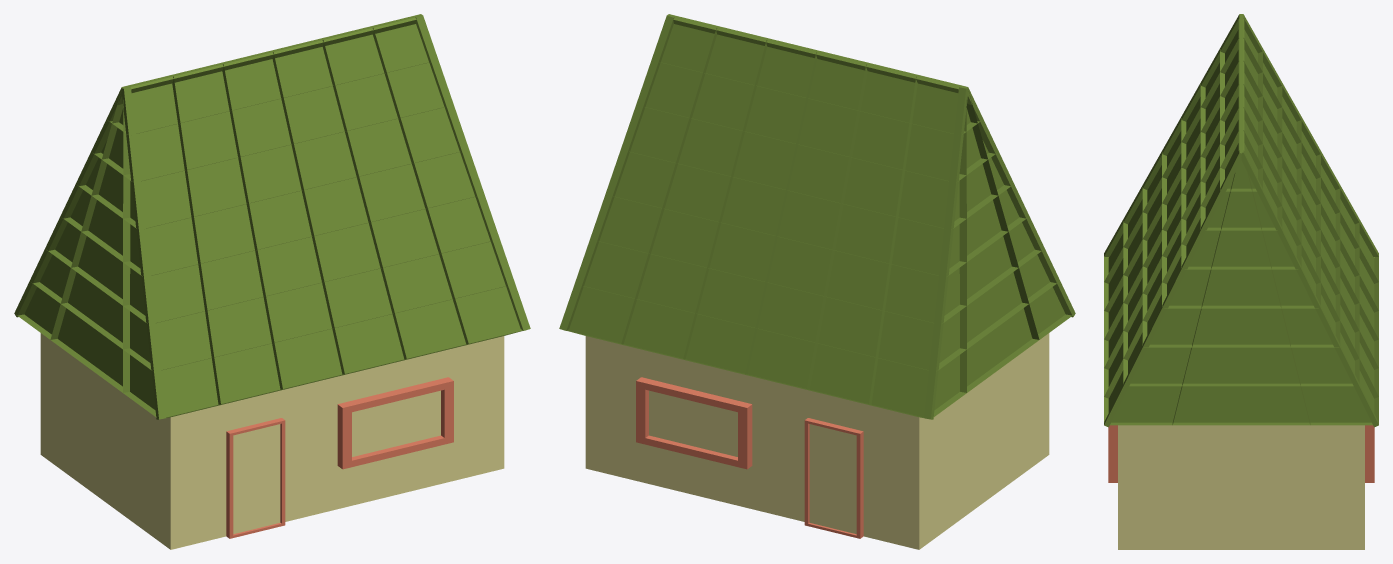
The model's file is fondos casa.fbx.
3 views of the same model, side by side, from view 1: azimuth 30°, elevation 25°; view 2: azimuth 150°, elevation 25°; view 3: azimuth 270°, elevation 25° (orthographic). The views are drawn at different scales.
Parts seen in each view (by area): view 1: Cube.008; view 2: Cube.008; view 3: Cube.008.
Boxes of the visible parts, bbox=[...] form: Cube.008: bbox=[14, 14, 530, 549]; Cube.008: bbox=[559, 14, 1075, 549]; Cube.008: bbox=[1104, 14, 1378, 549].
Size of the model in its own units: 230 by 243 by 155.
